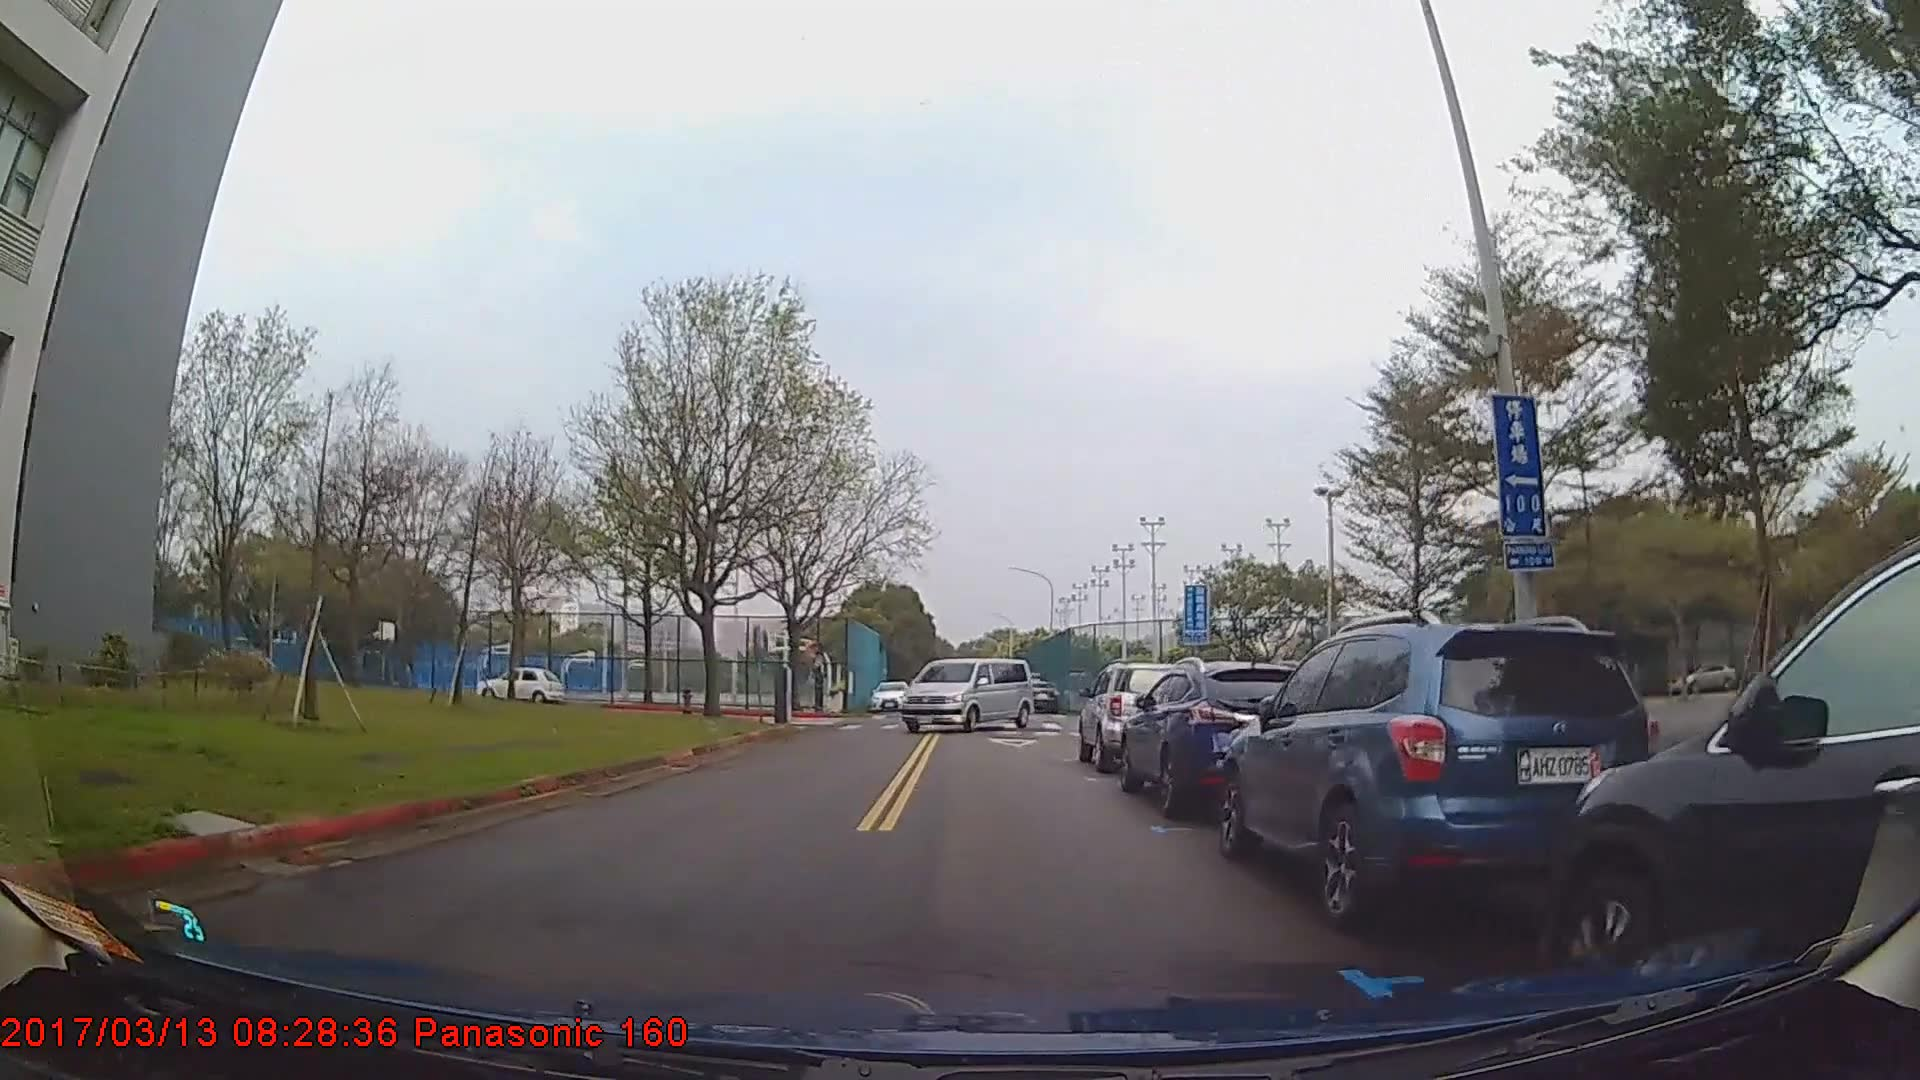vehicle: (1540, 542, 1920, 1017), (1213, 621, 1667, 927), (1117, 659, 1315, 818), (1077, 659, 1191, 770), (895, 655, 1033, 735), (480, 663, 564, 704), (1015, 676, 1062, 711), (868, 676, 909, 709)
